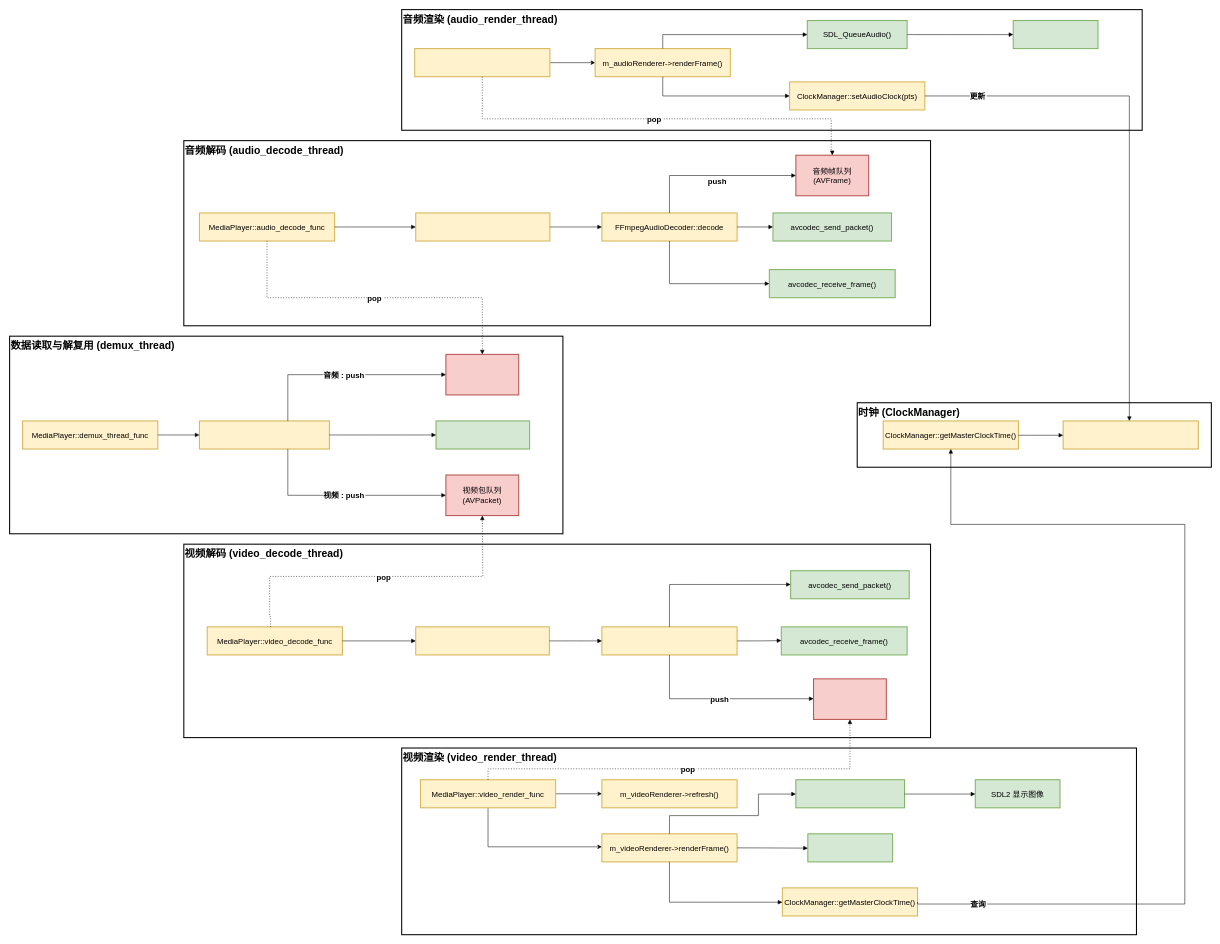
Some shapes in this 1220 by 944 pixel diagram are drawn without their labels. The centre of each missing label's shape, as x and y in pixels:
av_read_frame(): (482,434)
ClockManager::getAudioClockTime(): (1130,434)
FFmpegVideoDecoder::decode: (669,640)
m_audioDecoder->decode(): (482,226)
m_demuxer->readPacket(): (264,434)
m_videoDecoder->decode(): (482,640)
MediaPlayer::audio_render_func: (482,62)
SDL2 播放声音: (1055,34)
SDL_Delay(...): (850,847)
SDL_RenderPresent(): (850,793)
视频帧队列 (AVFrame): (850,699)
音频包队列 (AVPacket): (482,374)
